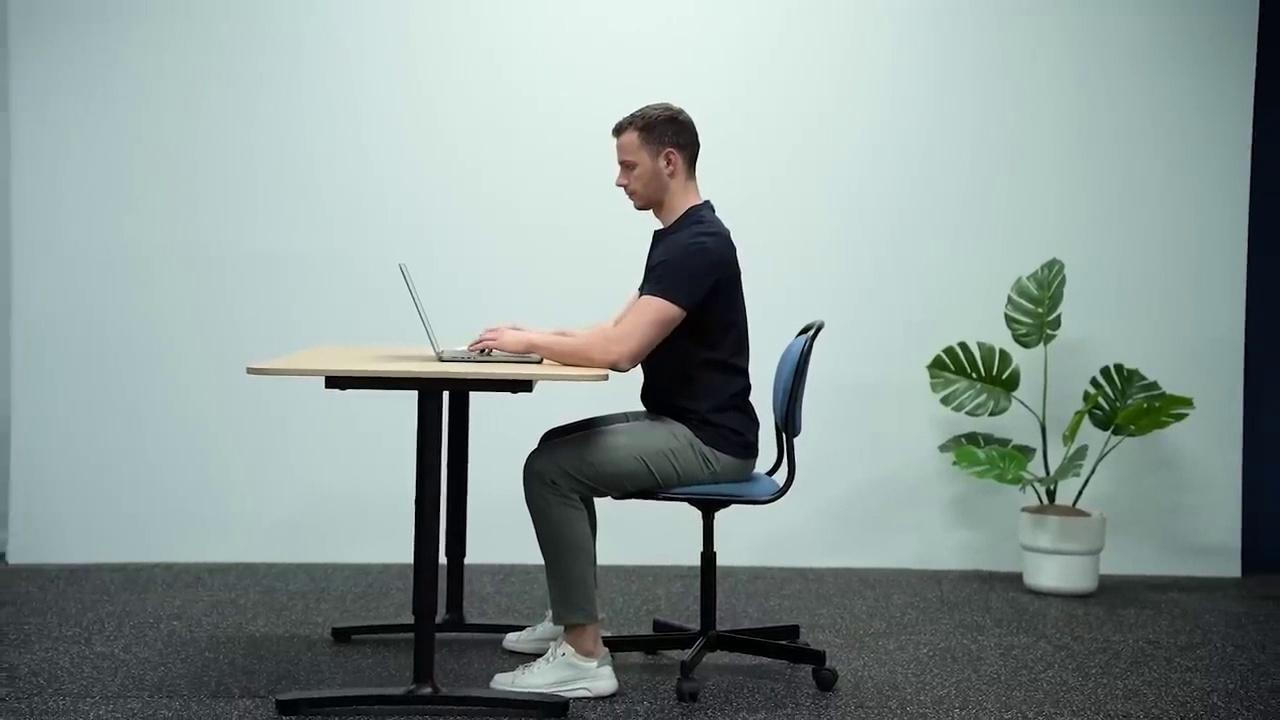GoodPosture: (469, 103, 759, 697)
